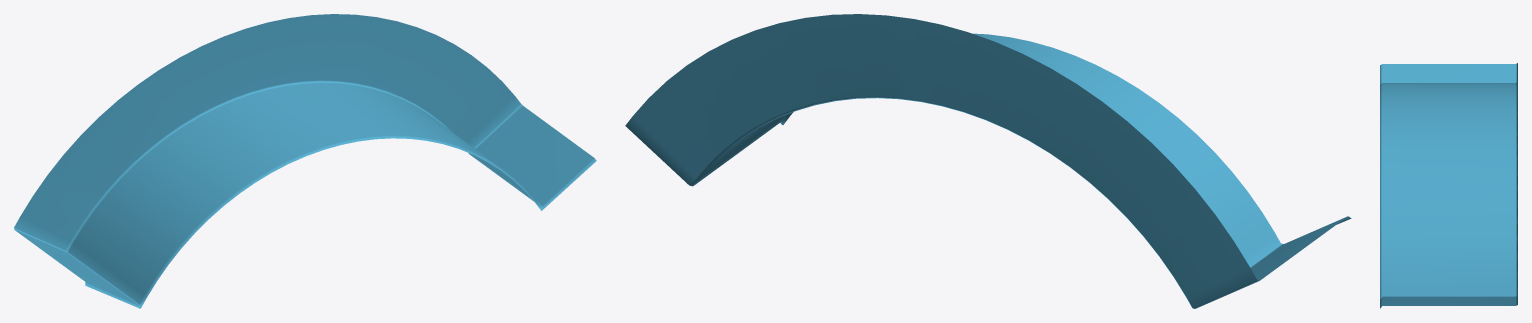
Rendered from SittingEnd.fbx.
3 renders of one model, left to right at view 1: azimuth 30°, elevation 25°; view 2: azimuth 150°, elevation 25°; view 3: azimuth 270°, elevation 25°, orthographic. The views are drawn at different scales.
Parts seen in each view (by area): view 1: SittingEnd; view 2: SittingEnd; view 3: SittingEnd.
Part boxes in pixels (x1=…): SittingEnd: x1=14, y1=14, x2=596, y2=308; SittingEnd: x1=625, y1=14, x2=1351, y2=308; SittingEnd: x1=1380, y1=63, x2=1517, y2=308.
Size of the model in its own units: 403 by 138 by 100.
